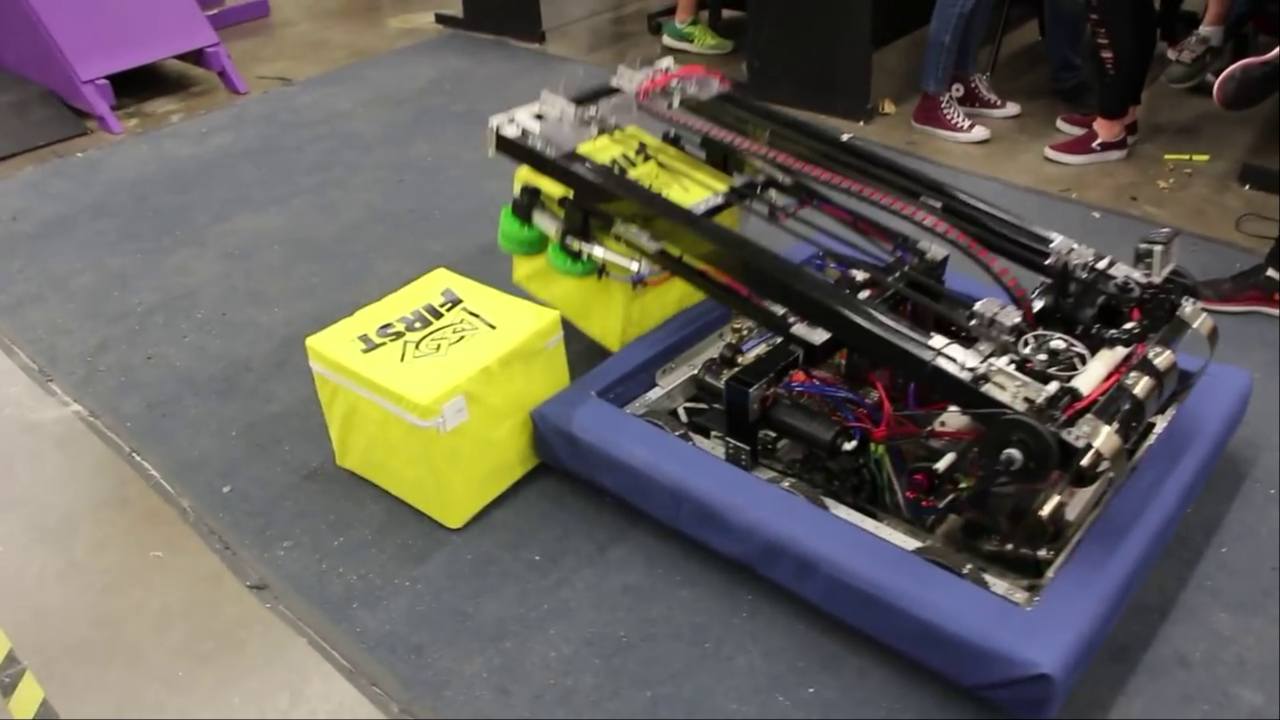cube: (306, 266, 581, 529), (511, 125, 741, 354)
